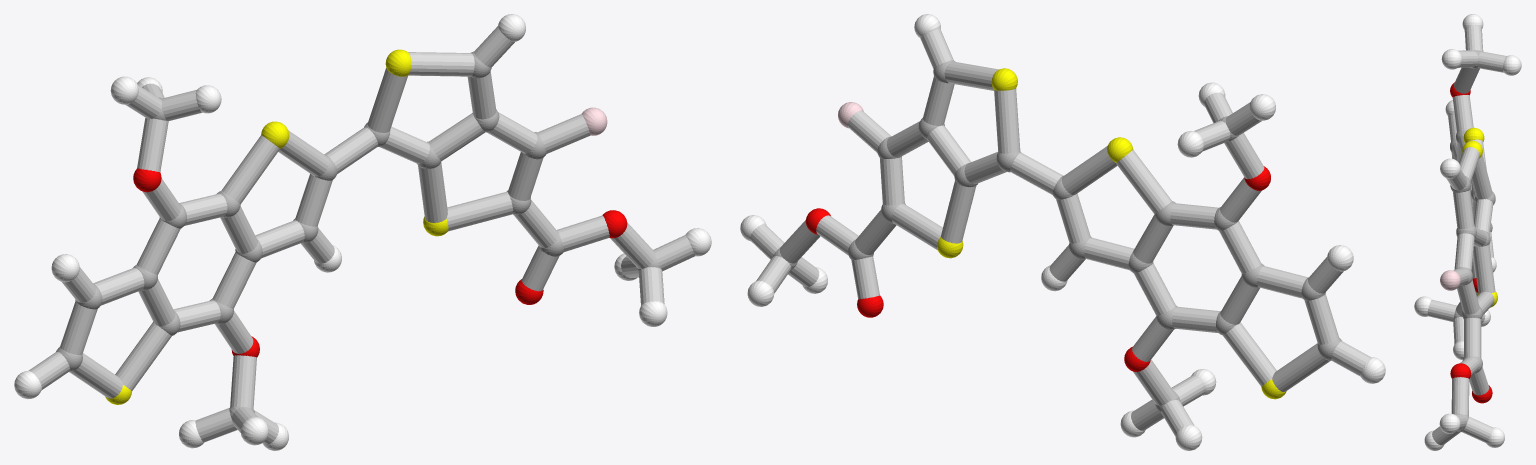
Rendered from Dimethoxy_Benzodithiophene_Phi_20_Theta_180_Methylcarbonyl_3_Fluoro_Thienothiophene.glb.
The picture shows the model from 3 angles, left to right: view 1: azimuth 30°, elevation 25°; view 2: azimuth 150°, elevation 25°; view 3: azimuth 270°, elevation 25°; orthographic projection. The views are drawn at different scales.
Visible parts, largest first — view 1: grp15205, grp8689, grp1, grp7241, grp13395; view 2: grp15205, grp8689, grp1, grp7241, grp13395; view 3: grp15205, grp8689, grp1, grp13395, grp7241, grp14843.
Boxes of the visible parts, box(x1,y1,x2,y2) form: grp15205: box(28, 26, 695, 444); grp8689: box(14, 14, 711, 450); grp1: box(56, 51, 660, 418); grp7241: box(105, 49, 448, 404); grp13395: box(133, 168, 627, 357); grp15205: box(750, 29, 1370, 436); grp8689: box(740, 14, 1385, 450); grp1: box(772, 60, 1341, 413); grp7241: box(937, 68, 1286, 399); grp13395: box(805, 166, 1270, 371); grp15205: box(1427, 25, 1506, 445); grp8689: box(1414, 14, 1521, 450); grp1: box(1450, 50, 1495, 432); grp13395: box(1450, 82, 1492, 403); grp7241: box(1462, 127, 1497, 307); grp14843: box(1440, 270, 1460, 290).
Bounding box in the file's own units: 16.76 × 9.36 × 3.1.
